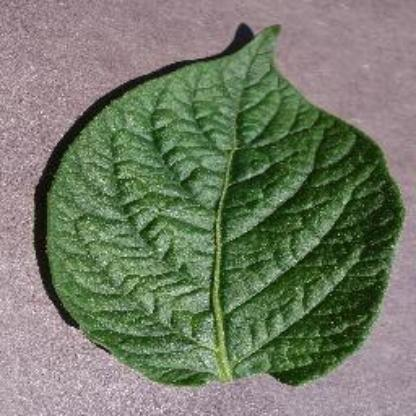Healthy-plant: (32, 20, 406, 392)
